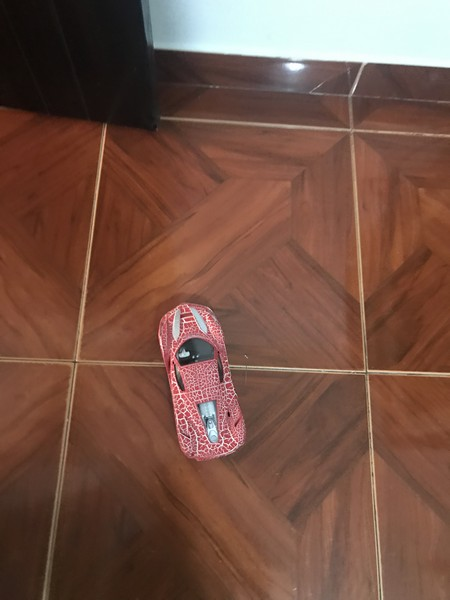RC: (155, 301, 248, 463)
